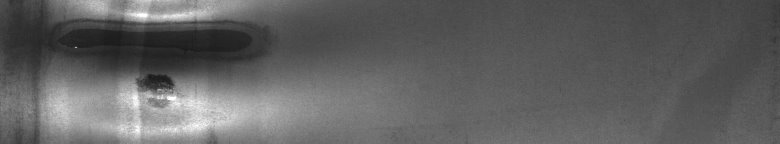ke: (34, 8, 247, 136)
